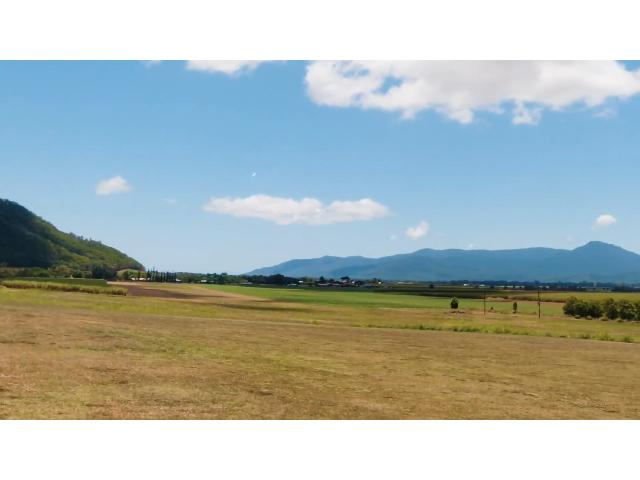Anti-Drone: (246, 164, 262, 182)
